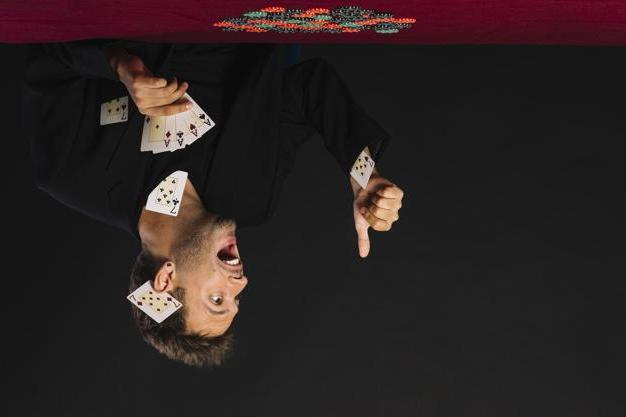thumbsdown: (357, 185, 405, 258)
